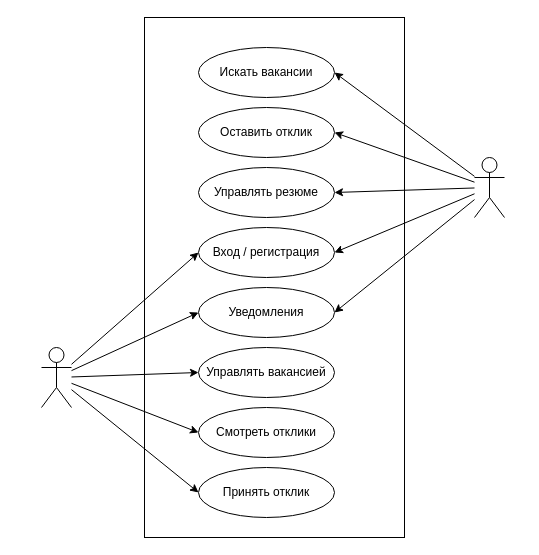
Image size: 539x555. Some labels were removed from this diagram. Here are the shapes that lost their labels. From the top down, the centre of each, then its label:
(489,187): Соискатель
(56,377): Работодатель
